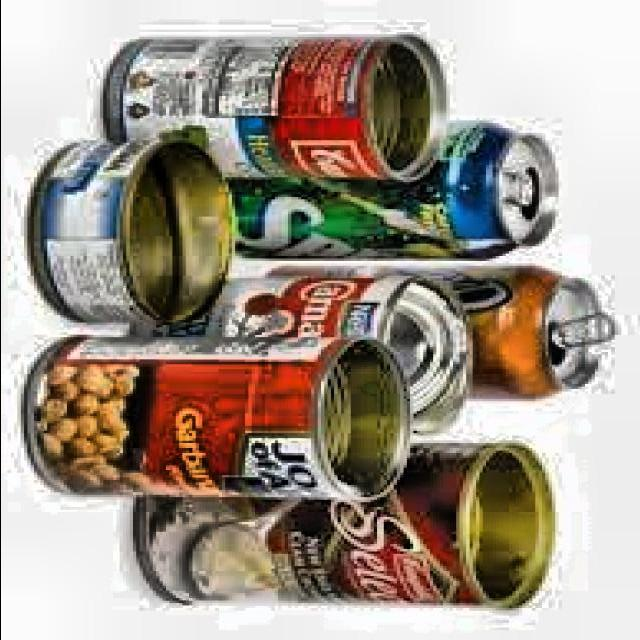litter: (127, 438, 564, 610), (20, 334, 414, 501), (130, 276, 473, 439), (100, 28, 452, 182), (210, 120, 564, 262), (259, 266, 616, 404), (24, 135, 242, 326)
